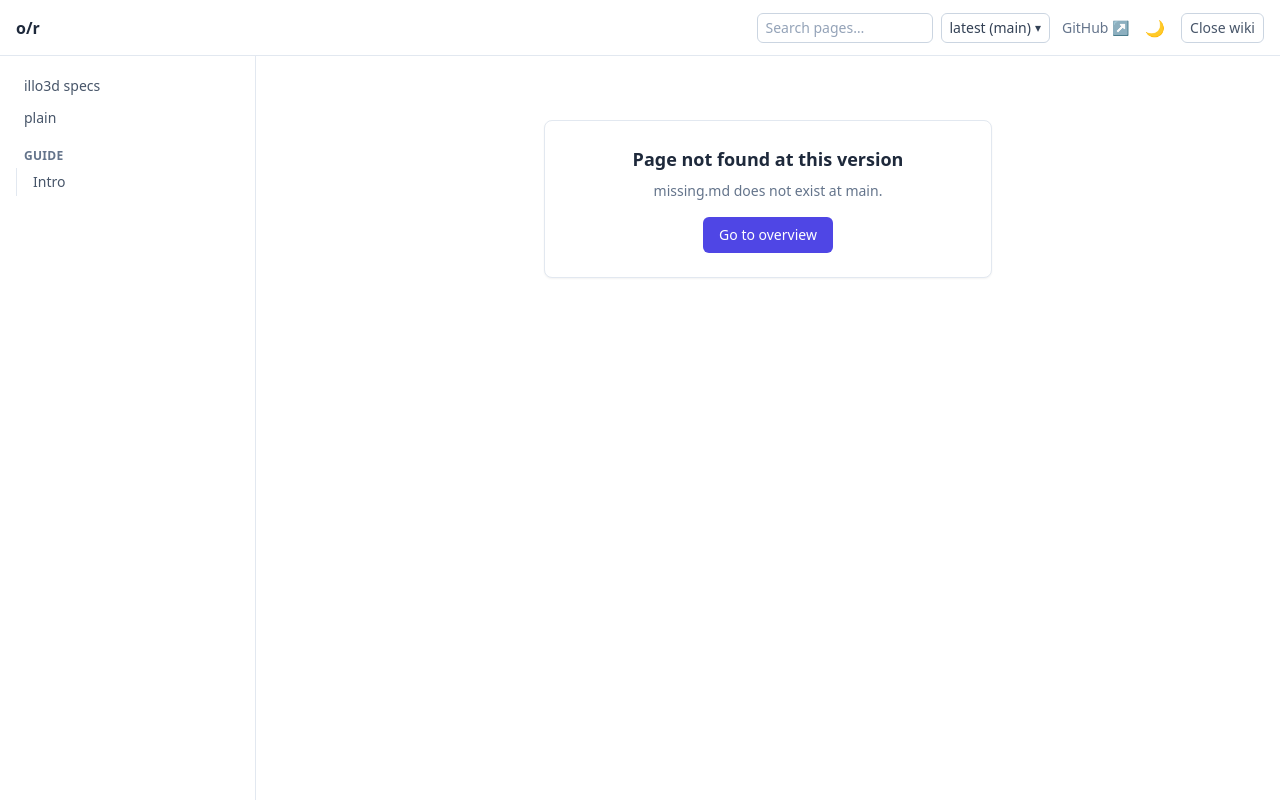
Test case: resolving and error states › reports a page missing at the current version
The width and height of the screenshot is (1280, 800).
Expected: the text "Page not found at this version" is shown, [633, 147, 903, 171]
Click the button "Go to overview" at (768, 235), box [703, 217, 833, 253]
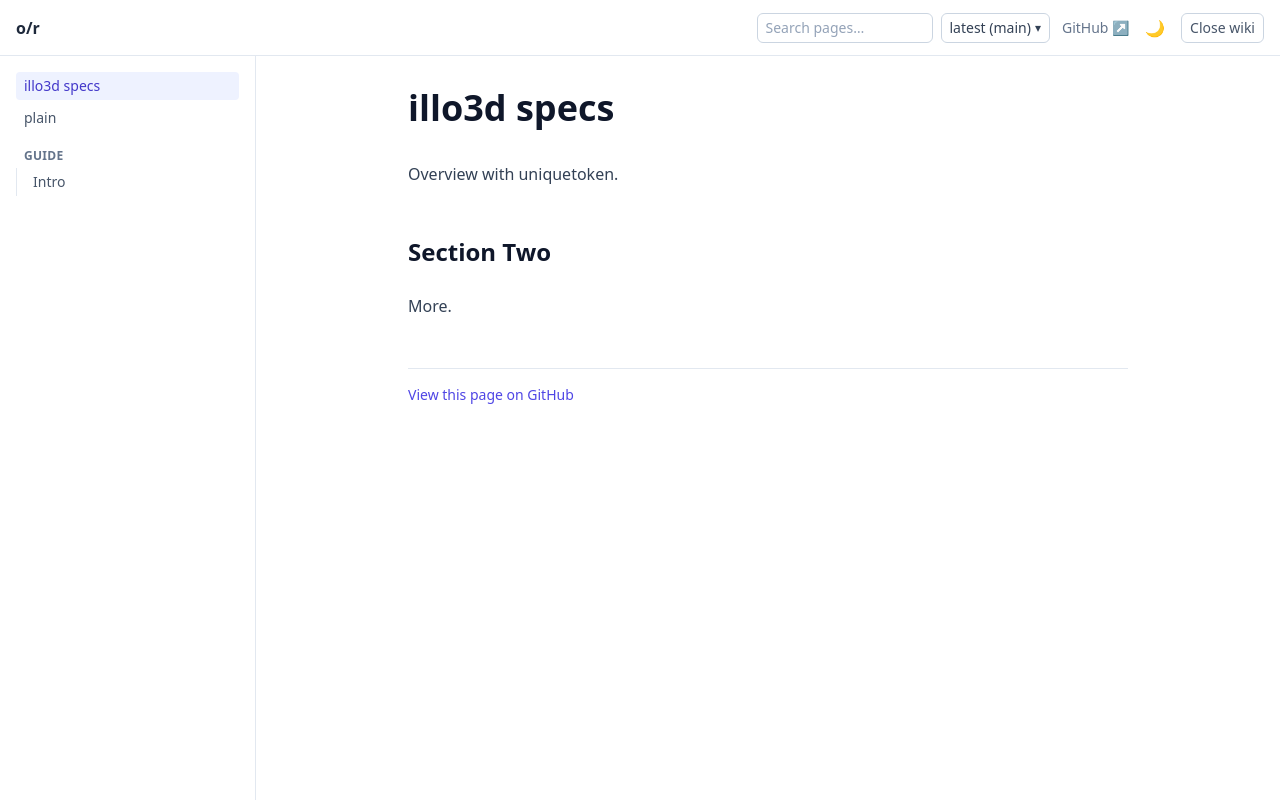
Expected: the heading "illo3d specs" is shown, [408, 83, 614, 132]
